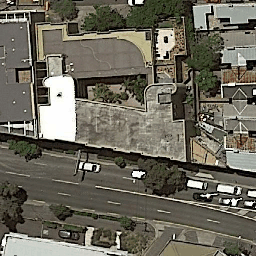car: (217, 182, 242, 196), (75, 161, 101, 172), (58, 229, 80, 240), (185, 179, 208, 189), (193, 191, 213, 202), (219, 197, 238, 207), (243, 199, 256, 209), (247, 187, 256, 199), (127, 1, 147, 6)
